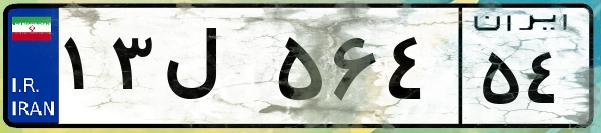1: (57, 26, 110, 100)
3: (110, 28, 158, 98)
4: (385, 28, 445, 110), (525, 38, 570, 115)
5: (270, 28, 330, 110), (475, 38, 525, 113)
6: (330, 28, 385, 110)
ل: (158, 20, 270, 120)
